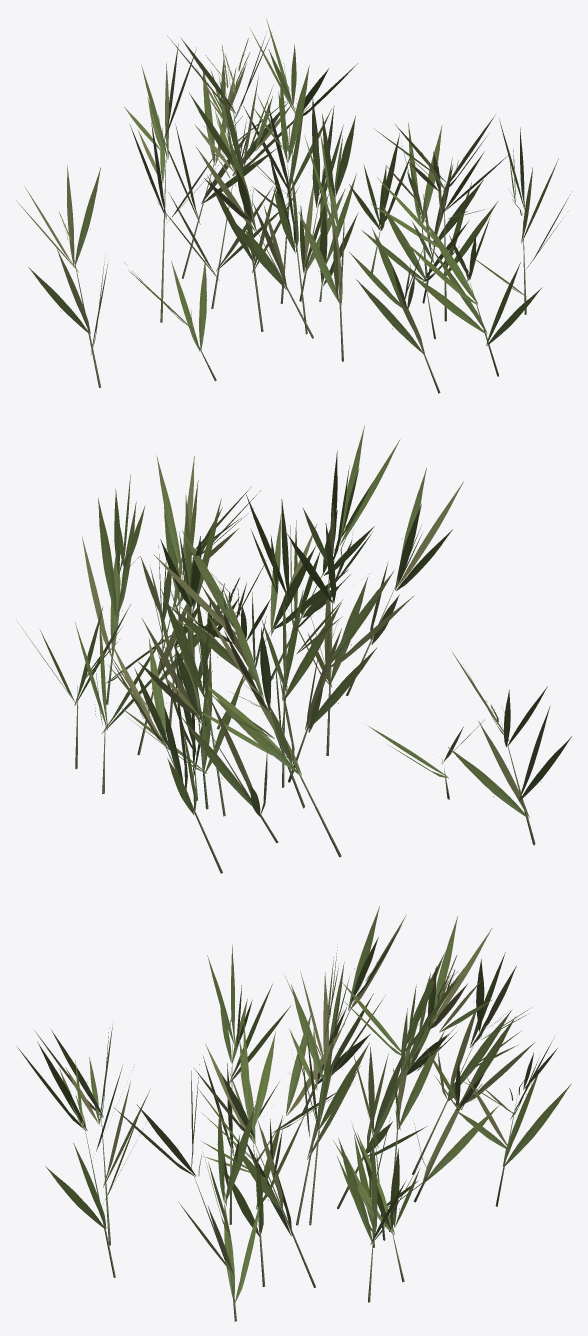
File: arden_forest_wheat_03.fbx
3 renders of one model, top to bottom at view 1: azimuth 30°, elevation 25°; view 2: azimuth 150°, elevation 25°; view 3: azimuth 270°, elevation 25°, orthographic. The views are drawn at different scales.
Parts seen in each view (by area): view 1: arden_forest_wheat_03; view 2: arden_forest_wheat_03; view 3: arden_forest_wheat_03.
Boxes of the visible parts, left/top/right/bottom form: arden_forest_wheat_03: left=16, top=18, right=570, bottom=393; arden_forest_wheat_03: left=17, top=425, right=571, bottom=873; arden_forest_wheat_03: left=17, top=906, right=571, bottom=1321.
Size of the model in its own units: 2.57 by 2.41 by 1.34.
